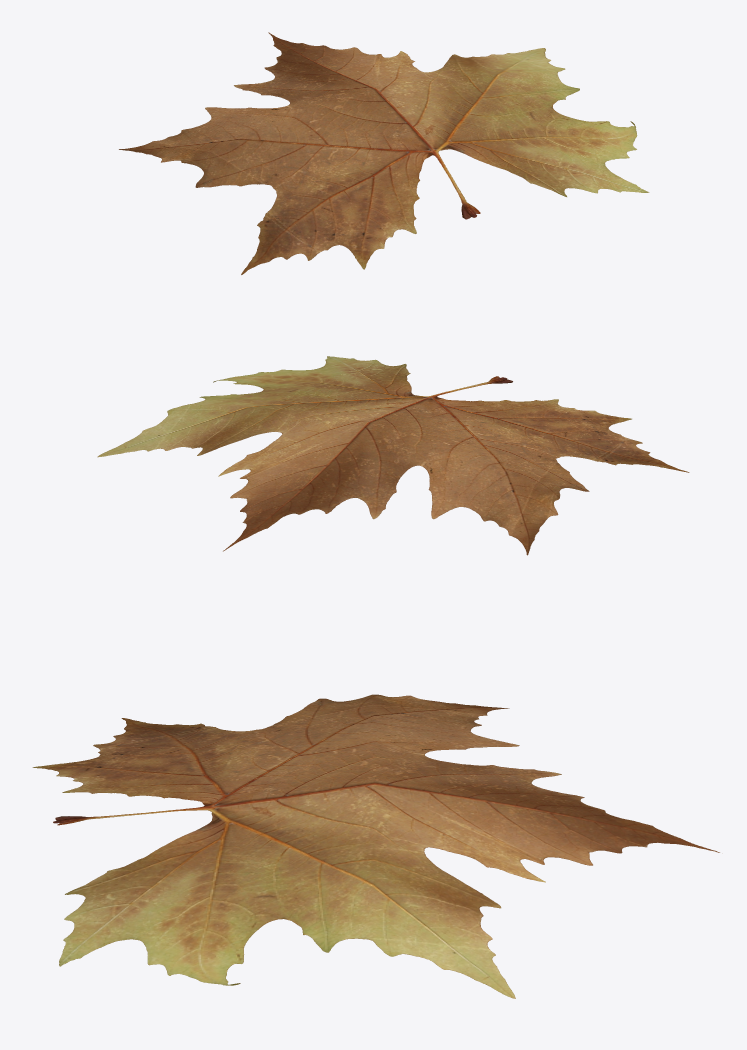
The model's file is Leave02.FBX.
The picture shows the model from 3 angles, top to bottom: view 1: azimuth 30°, elevation 25°; view 2: azimuth 150°, elevation 25°; view 3: azimuth 270°, elevation 25°; orthographic projection. The views are drawn at different scales.
Visible parts, largest first — view 1: Leave02; view 2: Leave02; view 3: Leave02.
Boxes of the visible parts, x1=… form: Leave02: x1=119, y1=32, x2=649, y2=274; Leave02: x1=97, y1=356, x2=689, y2=555; Leave02: x1=32, y1=694, x2=719, y2=998.
Size of the model in its own units: 13.43 by 2.13 by 13.48.
1 material, 1 textured.
